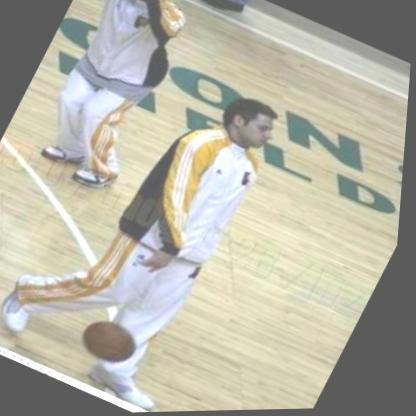basketball: (70, 306, 159, 381)
